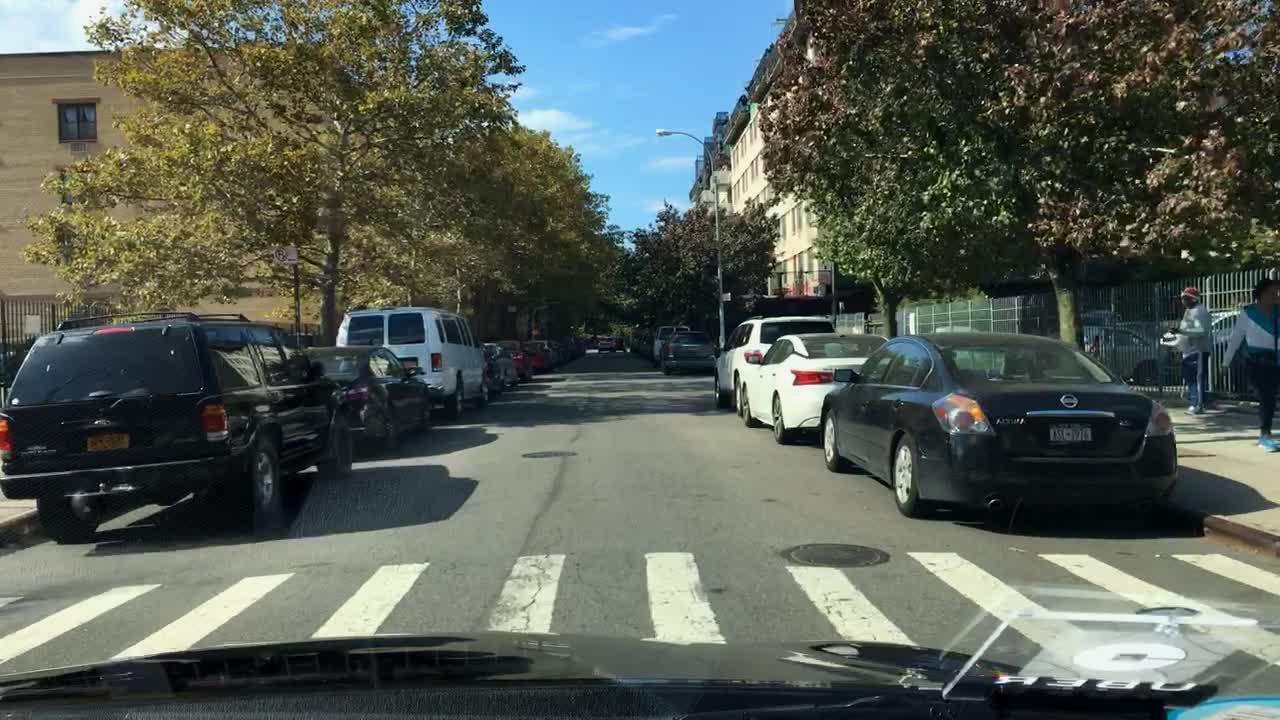Nissan: (1055, 384, 1086, 415)
